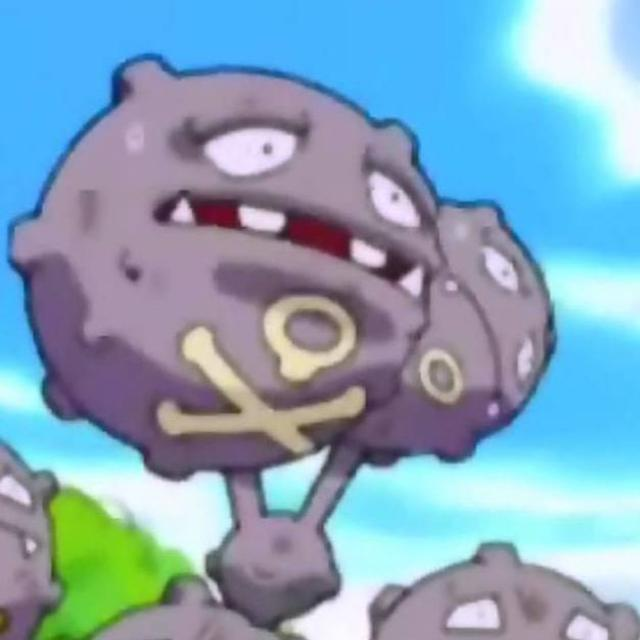Weezing: (46, 86, 568, 464)
